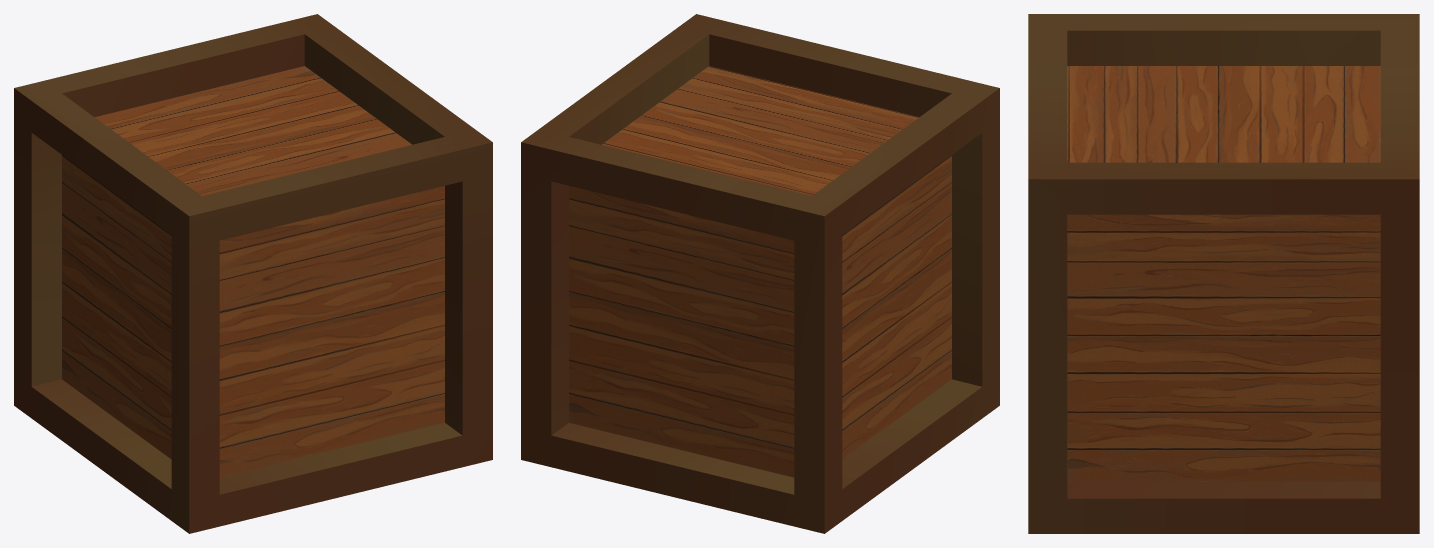
Rendered from Crates(T).fbx.
3 renders of one model, left to right at view 1: azimuth 30°, elevation 25°; view 2: azimuth 150°, elevation 25°; view 3: azimuth 270°, elevation 25°, orthographic. The views are drawn at different scales.
Visible parts, largest first — view 1: Crates; view 2: Crates; view 3: Crates.
Part boxes in pixels (box(x1,y1,x2,y2)): Crates: box(14, 14, 492, 533); Crates: box(521, 14, 999, 533); Crates: box(1028, 14, 1419, 533).
Size of the model in its own units: 200 by 200 by 200.
Materials: 2 (2 with a texture image).
